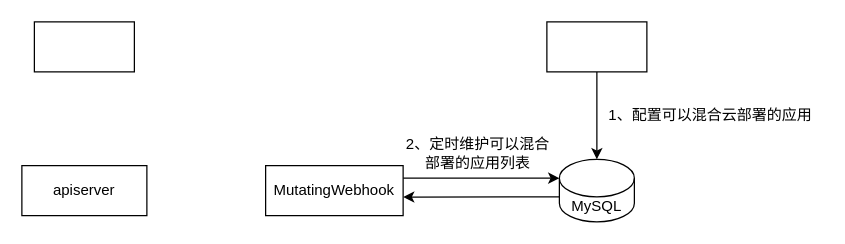
Some shapes in this 845 by 244 pixel diagram are drawn without their labels. Each missing label, with the centre of its shape:
"dcos_api" goes at [83,46].
"dcos_web" goes at [596,46].
